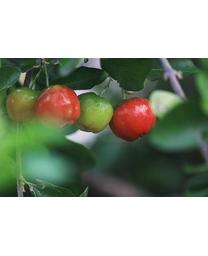cherry: (110, 97, 156, 141), (36, 84, 80, 127), (76, 91, 113, 132), (6, 87, 37, 121)
